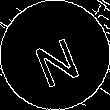N_N: (27, 24, 83, 86)
